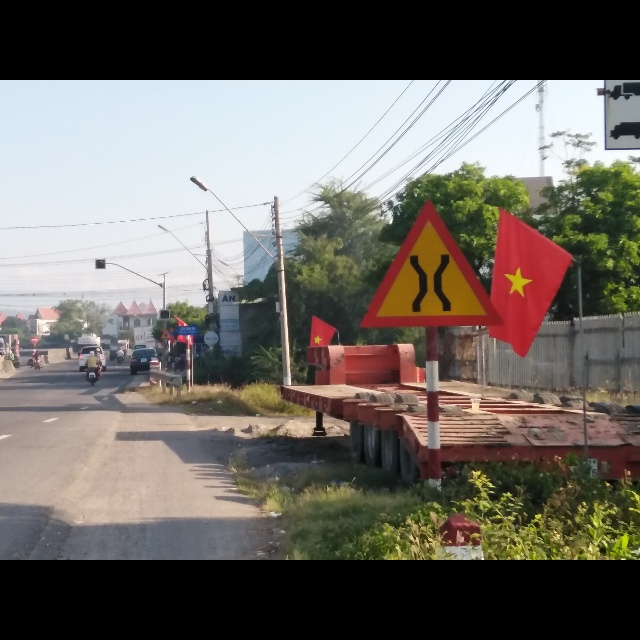Cầu hẹp: (358, 198, 503, 331)
